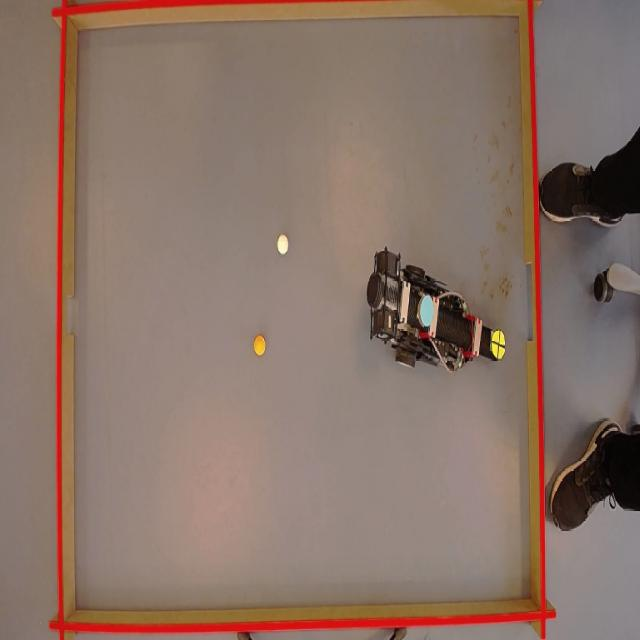orange: (253, 334, 268, 357)
robot: (364, 250, 512, 378)
robot-front: (491, 327, 506, 363)
robot-rear: (415, 295, 435, 326)
white: (275, 234, 289, 254)
